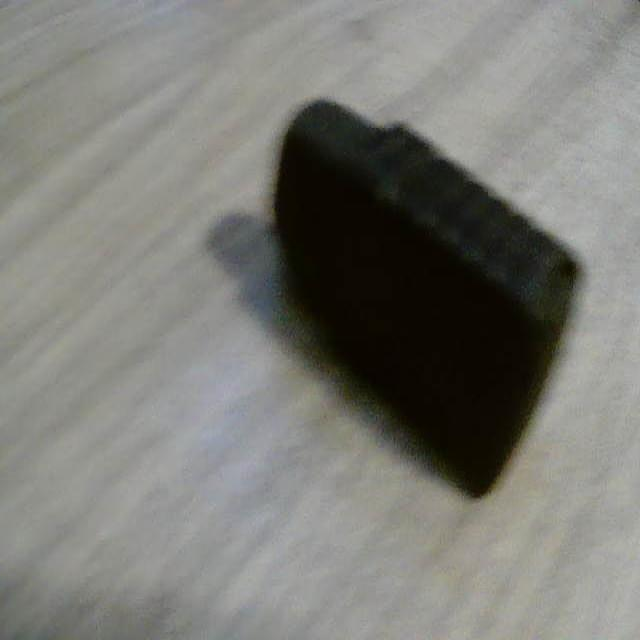borracha: (267, 88, 592, 519)
